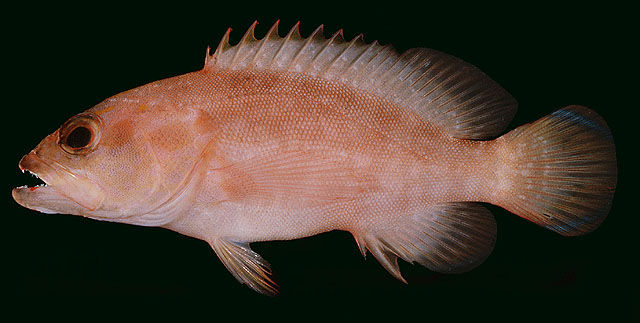fish: (12, 20, 619, 297)
